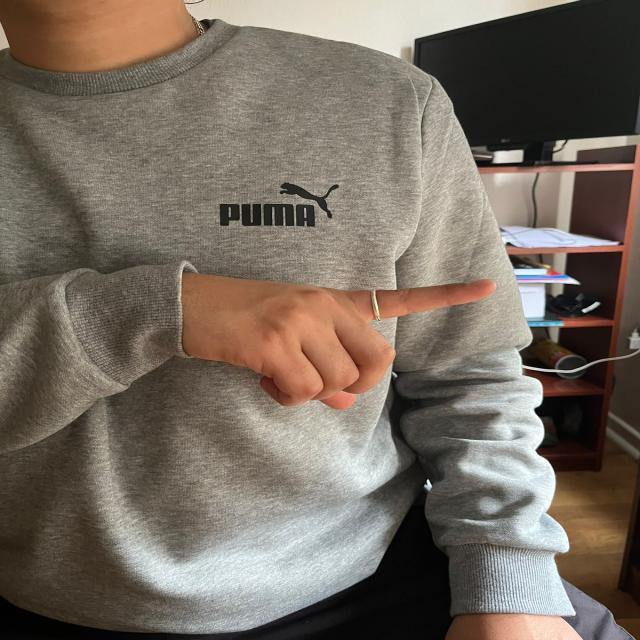S: (146, 257, 502, 418)
